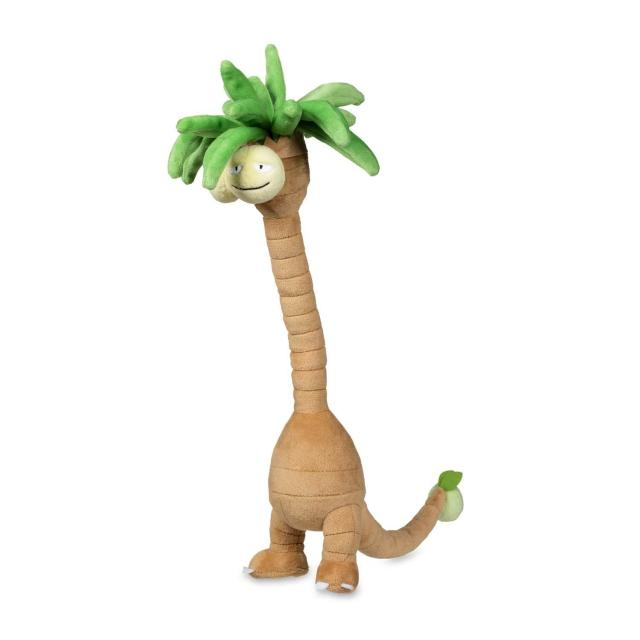Exeggutor: (194, 50, 372, 588)
